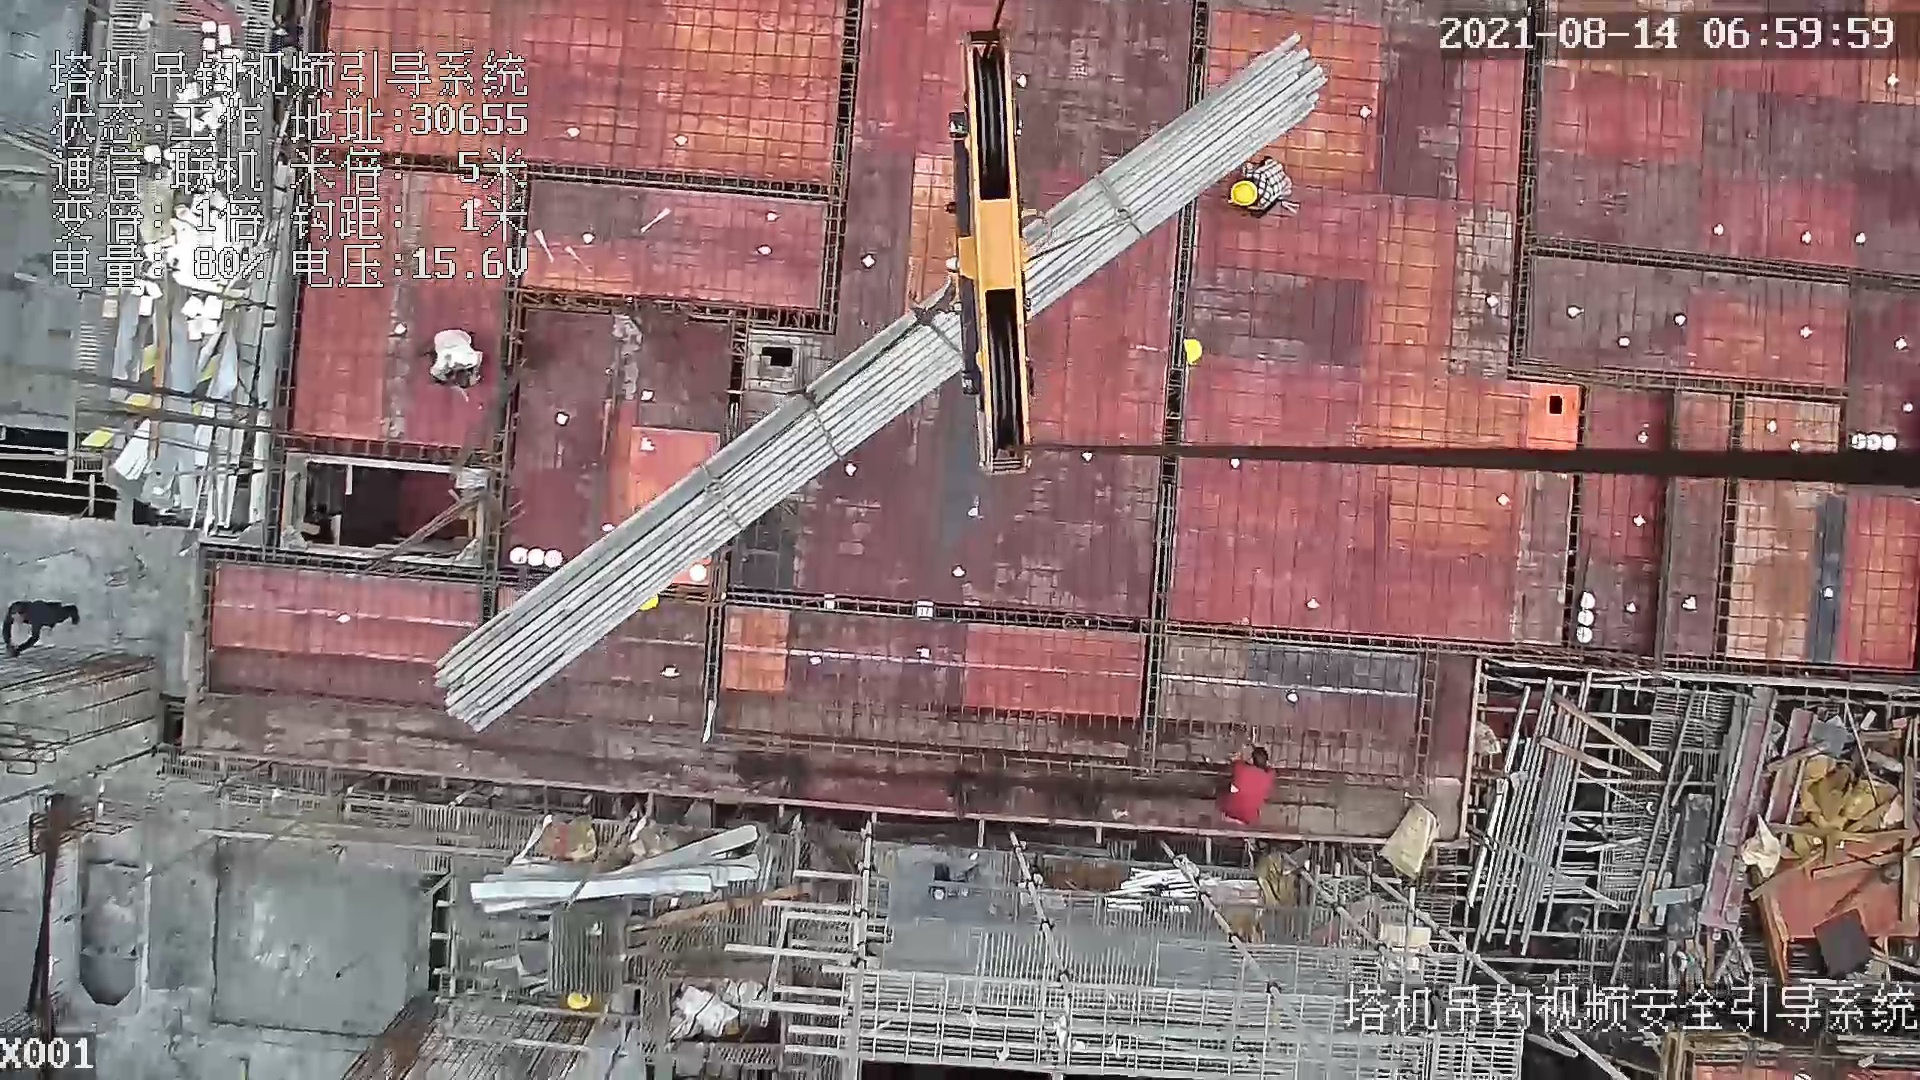helmet: (1231, 180, 1258, 205), (1181, 337, 1202, 366), (567, 994, 592, 1008)
hook: (924, 26, 1056, 487)
person: (424, 328, 494, 405), (1224, 154, 1292, 221), (2, 599, 79, 655), (1226, 745, 1276, 824)
rebar: (436, 37, 1328, 734)
